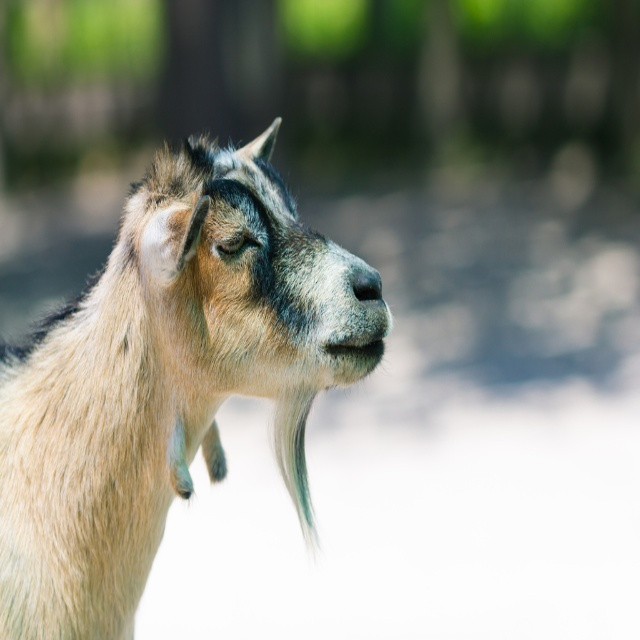Goat: (0, 127, 399, 605)
